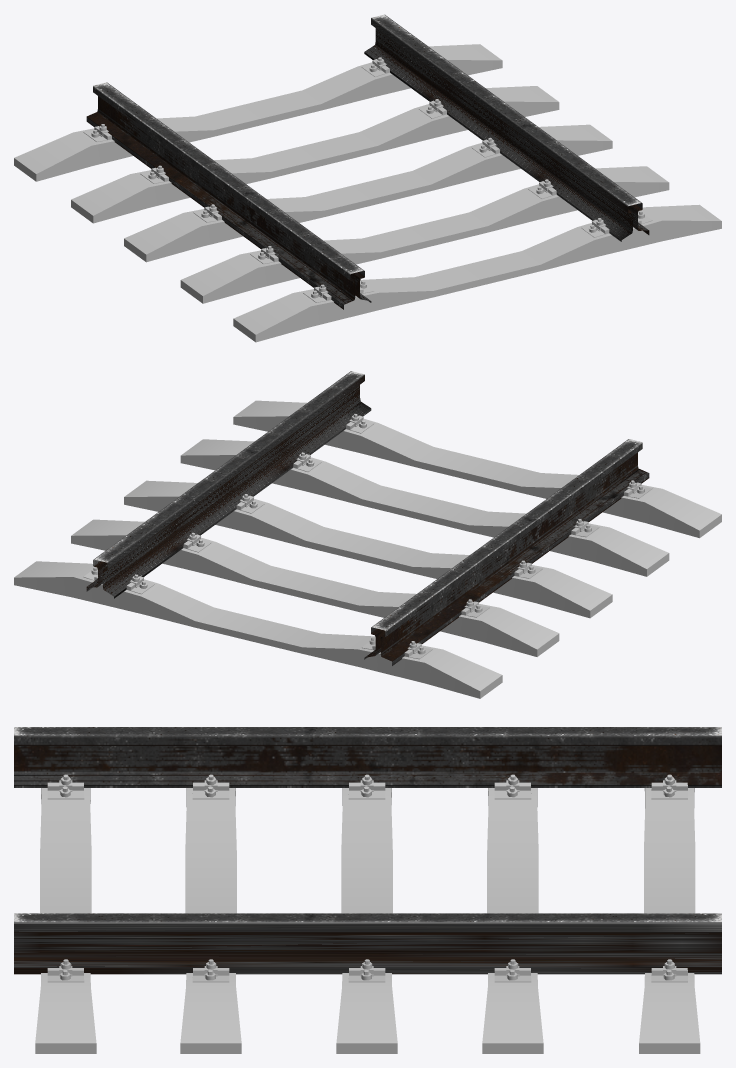
Rendered from Rails_high.obj.
3 renders of one model, top to bottom at view 1: azimuth 30°, elevation 25°; view 2: azimuth 150°, elevation 25°; view 3: azimuth 270°, elevation 25°, orthographic. The views are drawn at different scales.
Parts seen in each view (by area): view 1: Object002; view 2: Object002; view 3: Object002.
Boxes of the visible parts, bbox=[...] form: Object002: bbox=[14, 14, 721, 342]; Object002: bbox=[14, 371, 721, 698]; Object002: bbox=[14, 727, 721, 1053].
Size of the model in its own units: 6.38 by 0.6918 by 6.1.
